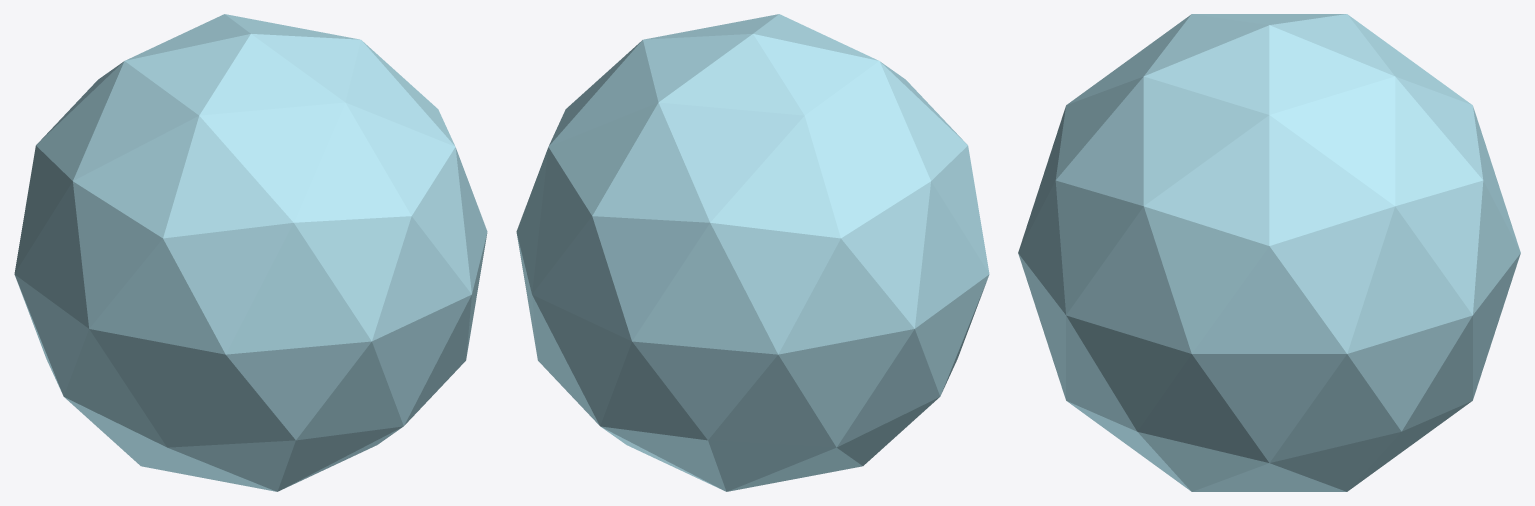
The model's file is ice_planet.glb.
The picture shows the model from 3 angles, left to right: view 1: azimuth 30°, elevation 25°; view 2: azimuth 150°, elevation 25°; view 3: azimuth 270°, elevation 25°; orthographic projection. The views are drawn at different scales.
Parts seen in each view (by area): view 1: ice_planet; view 2: ice_planet; view 3: ice_planet.
Part boxes in pixels (x1,y1,x2,y2): ice_planet: [14, 14, 487, 491]; ice_planet: [516, 14, 989, 491]; ice_planet: [1018, 14, 1520, 491].
Bounding box in the file's own units: 1.9 × 2 × 2.
